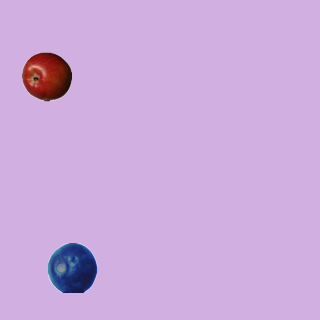Apple Braeburn: (21, 51, 71, 101)
Huckleberry: (47, 242, 97, 292)
